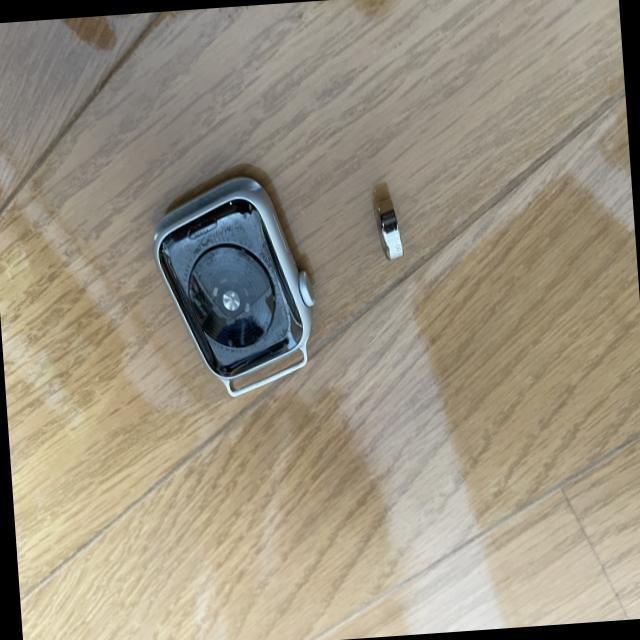COIN: (372, 197, 404, 260)
